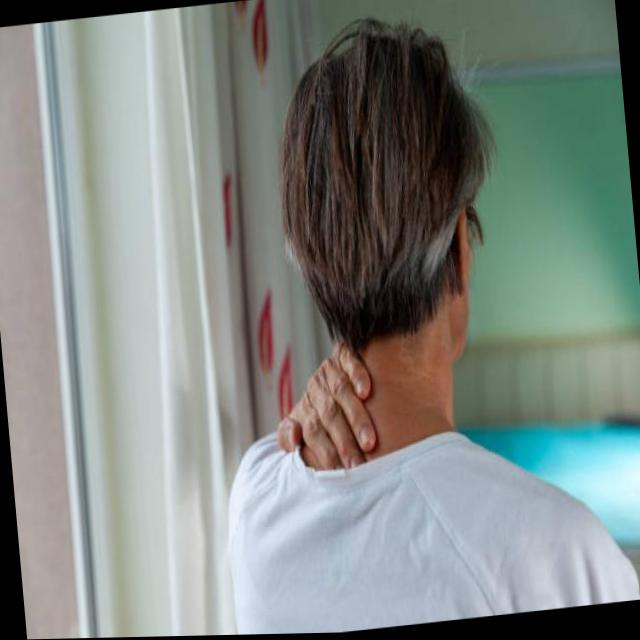no helmet: (266, 28, 478, 378)
